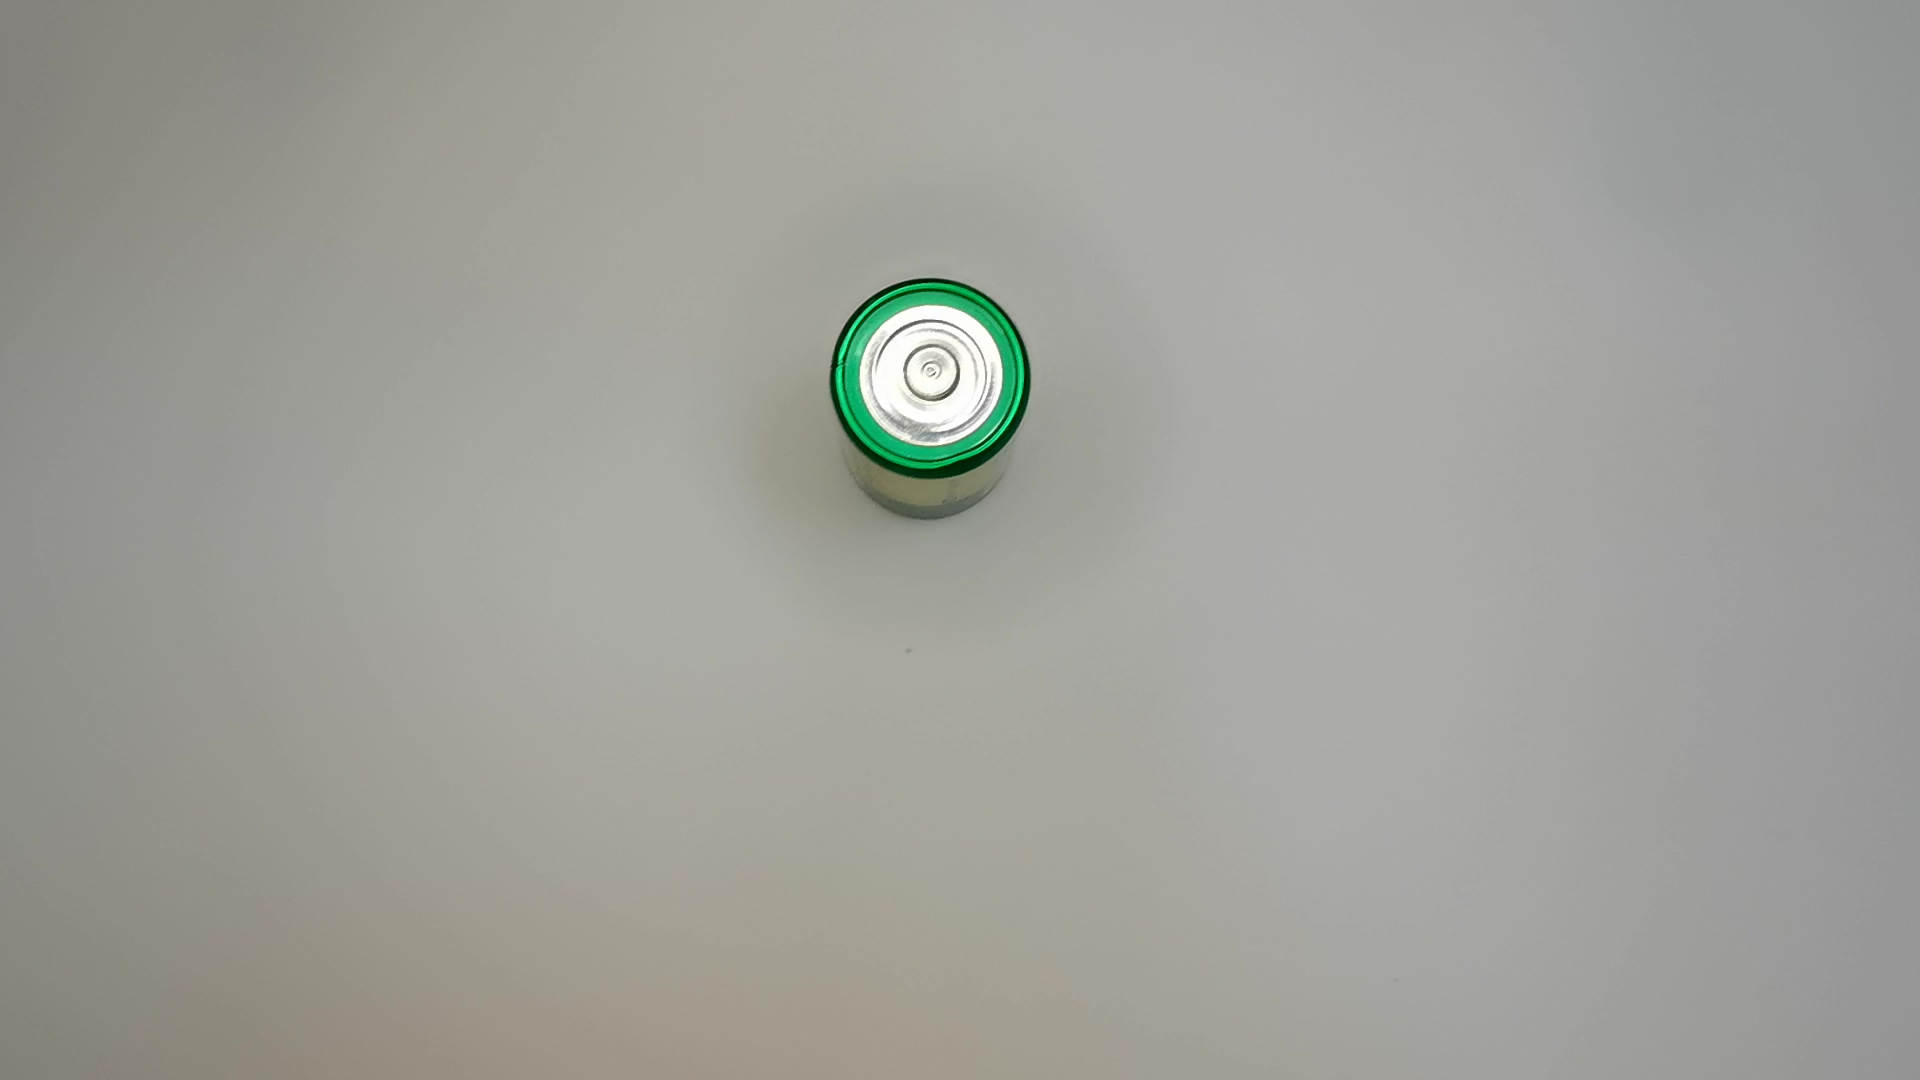battery: (832, 278, 1033, 531)
